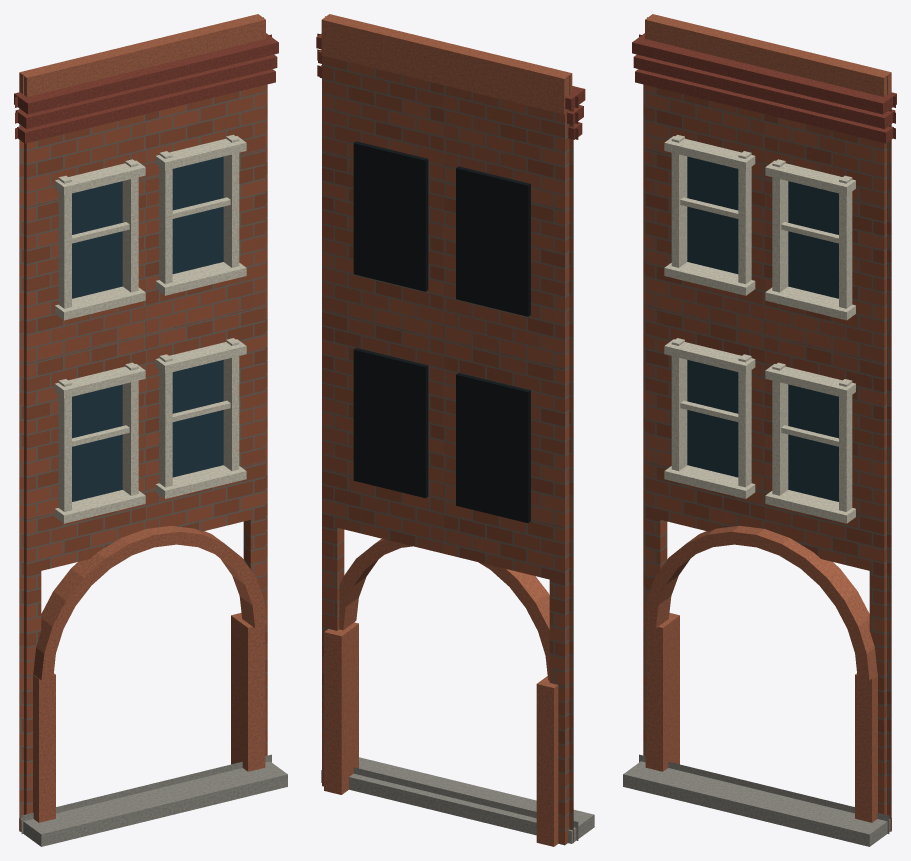
Rendered from VICT27_lod2.glb.
3 views of the same model, side by side, from view 1: azimuth 30°, elevation 25°; view 2: azimuth 150°, elevation 25°; view 3: azimuth 330°, elevation 25° (orthographic).
Visible parts, largest first — view 1: VICT27_FRONT_LOD2; view 2: VICT27_FRONT_LOD2; view 3: VICT27_FRONT_LOD2.
Part boxes in pixels (box(x1,y1,x2,y2)): VICT27_FRONT_LOD2: box(14, 14, 287, 846); VICT27_FRONT_LOD2: box(316, 14, 594, 846); VICT27_FRONT_LOD2: box(623, 14, 896, 846).
Bounding box in the file's own units: 3.44 × 9.66 × 0.69.
8 materials, 6 textured.
